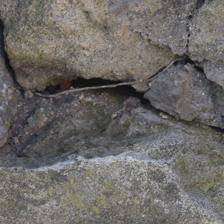Crack: (100, 42, 180, 123), (45, 77, 100, 144)
